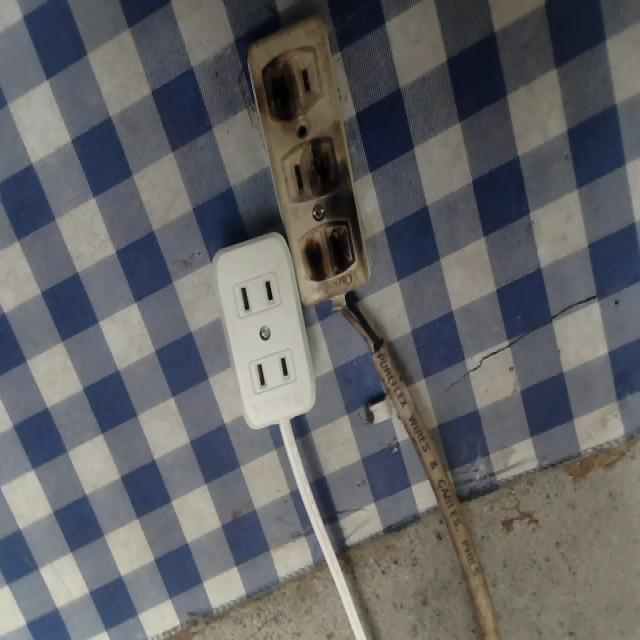-: (296, 222, 358, 290), (257, 47, 300, 129), (308, 131, 347, 189)
